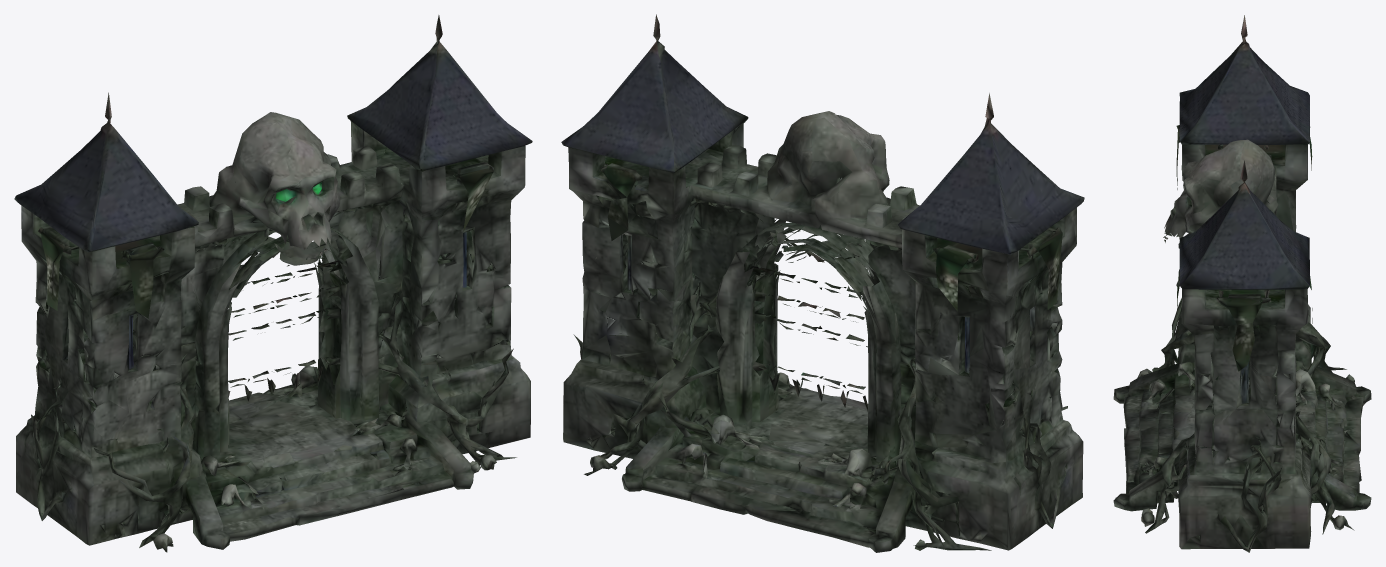
File: castle_gate1.glb
3 renders of one model, left to right at view 1: azimuth 30°, elevation 25°; view 2: azimuth 150°, elevation 25°; view 3: azimuth 270°, elevation 25°, orthographic. The views are drawn at different scales.
Parts seen in each view (by area): view 1: world; view 2: world; view 3: world.
Boxes of the visible parts, x1,y1,x2,y2 form: world: (14,15,532,552); world: (561,14,1084,552); world: (1113,15,1371,552).
Size of the model in its own units: 0.9938 by 0.858 by 0.5416.
1 material, 1 textured.
